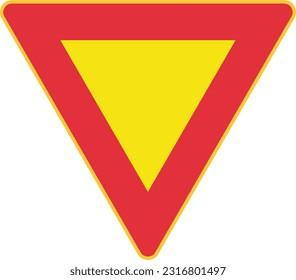Give Way: (7, 1, 296, 261)
